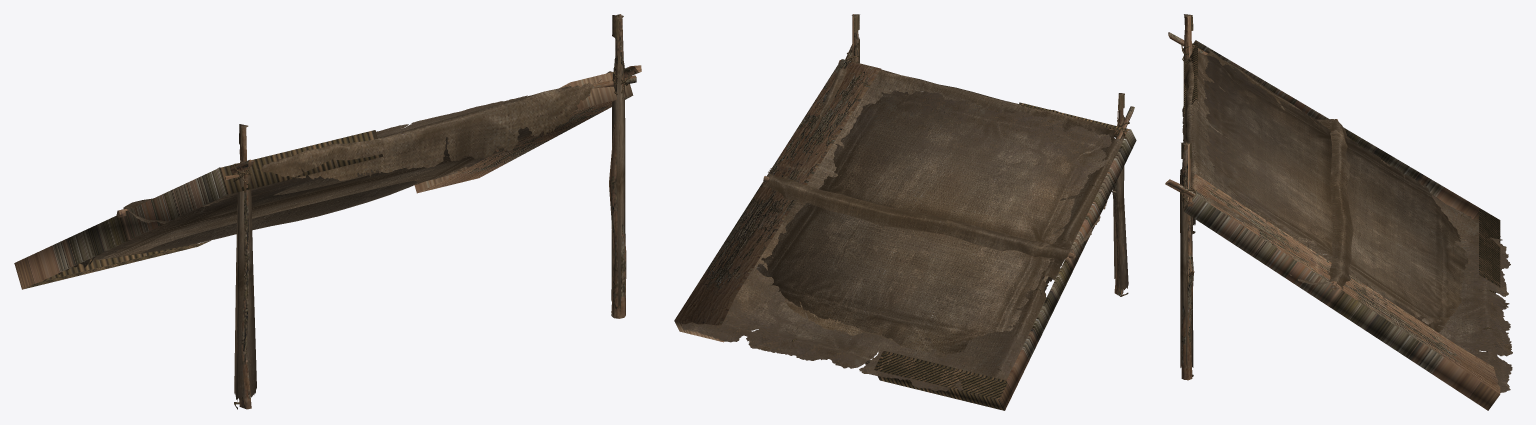
The model's file is CAMP_shelter2.fbx.
The picture shows the model from 3 angles, left to right: view 1: azimuth 30°, elevation 25°; view 2: azimuth 150°, elevation 25°; view 3: azimuth 270°, elevation 25°; orthographic projection. The views are drawn at different scales.
Visible parts, largest first — view 1: CAMP_shelter2_COL, CAMP_shelter2; view 2: CAMP_shelter2_COL, CAMP_shelter2; view 3: CAMP_shelter2_COL, CAMP_shelter2.
Part boxes in pixels (box(x1,y1,x2,y2)): CAMP_shelter2_COL: box(14, 15, 633, 409); CAMP_shelter2: box(46, 14, 641, 409); CAMP_shelter2_COL: box(674, 14, 1136, 410); CAMP_shelter2: box(681, 14, 1134, 395); CAMP_shelter2_COL: box(1180, 14, 1500, 410); CAMP_shelter2: box(1165, 16, 1512, 392).
Bounding box in the file's own units: 343 × 226 × 294.
